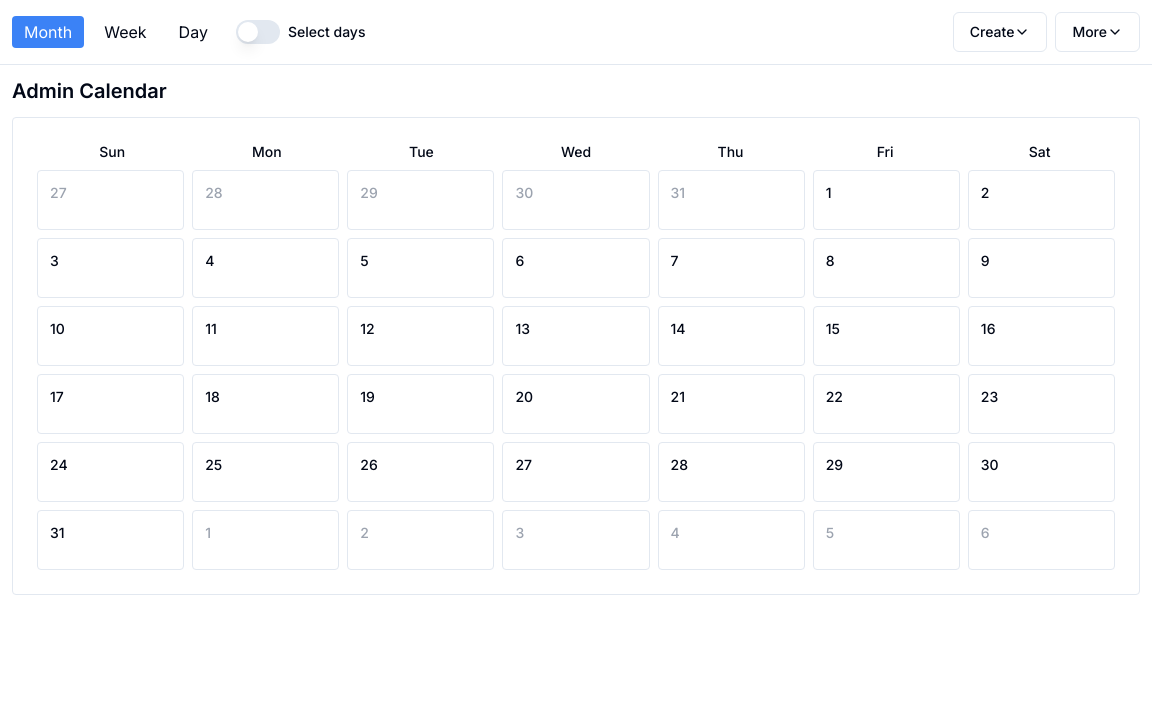
Test: Admin Calendar Behaviour › Month shows 42 day cells; clicking a day opens DayPeekSheet
Click the button "11" at (266, 336), box [192,306,339,366]
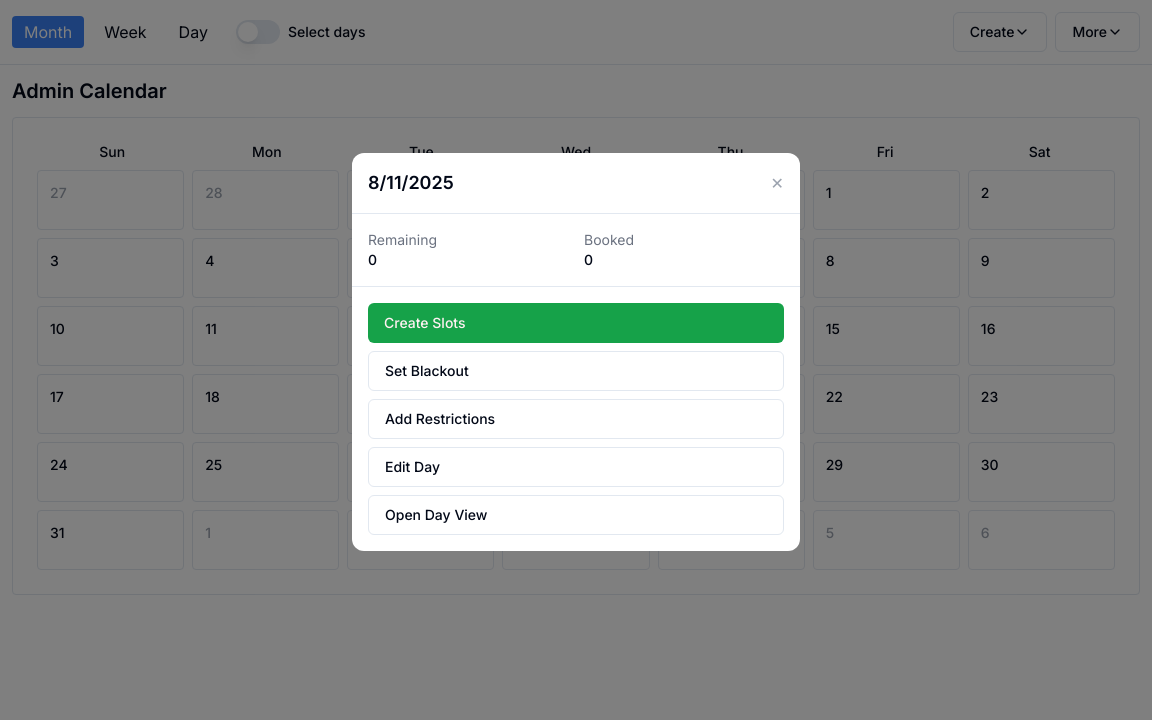
Expected: the button "Edit Day" is shown, [368,447,784,487]
